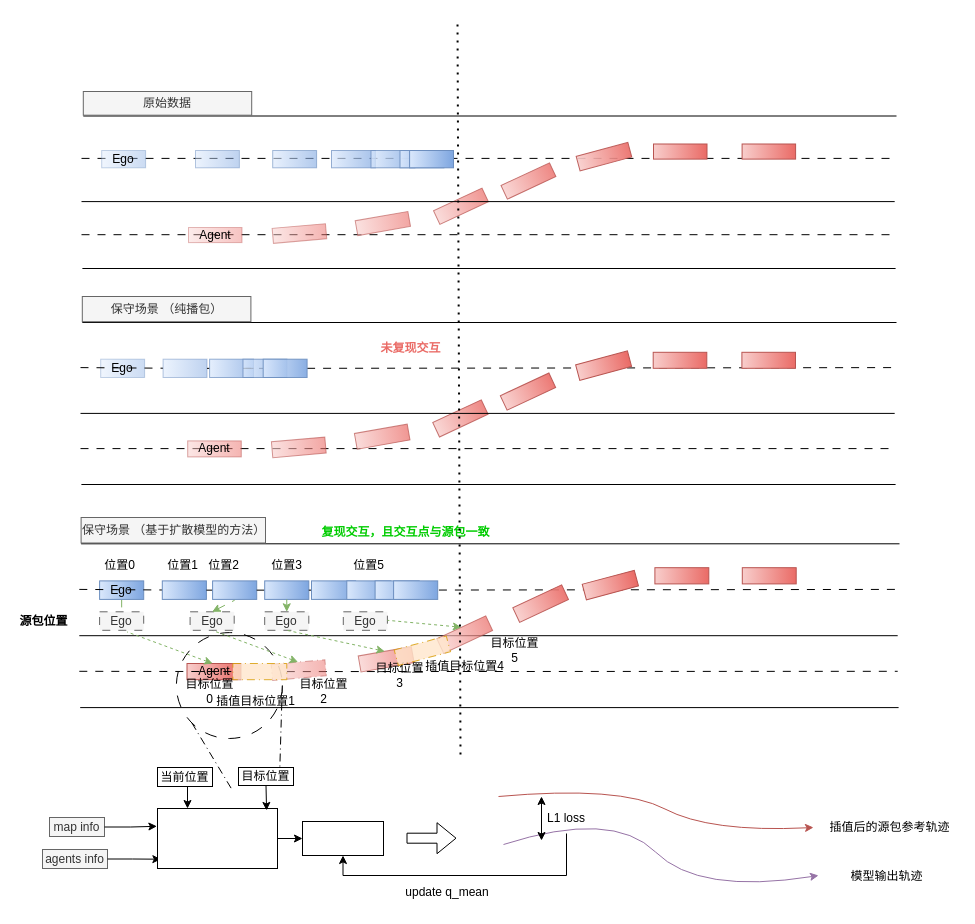
The diagram is 975 pixels wide and 924 high, and some of its shapes have lost their labels. The centre of each missing label's shape, as x and y in pixels:
diffusion: point (343, 838)
基座模型（Base model）: point (217, 838)
